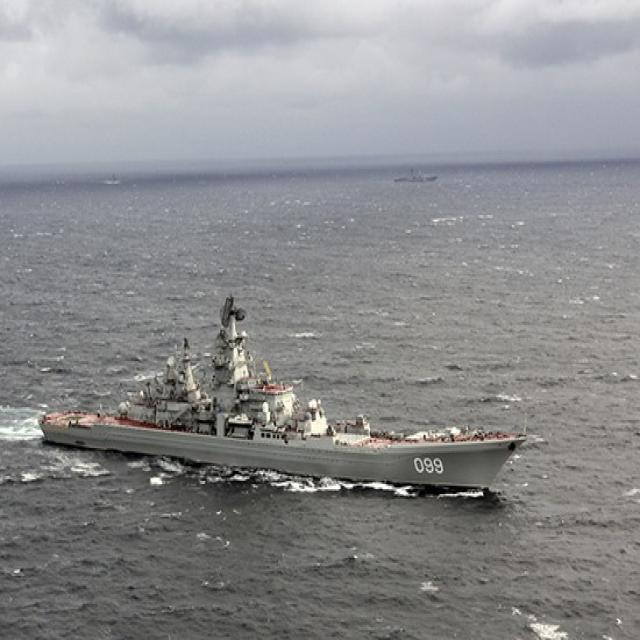navalvessels: (36, 267, 526, 503)
